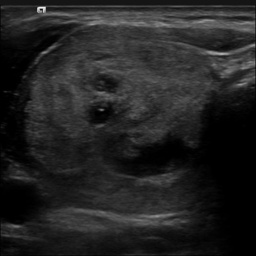mass: (29, 31, 209, 174)
